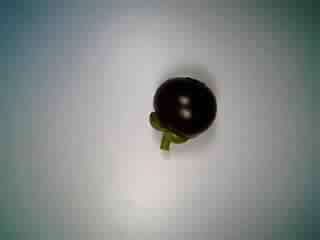mangosteen: (141, 72, 223, 157)
